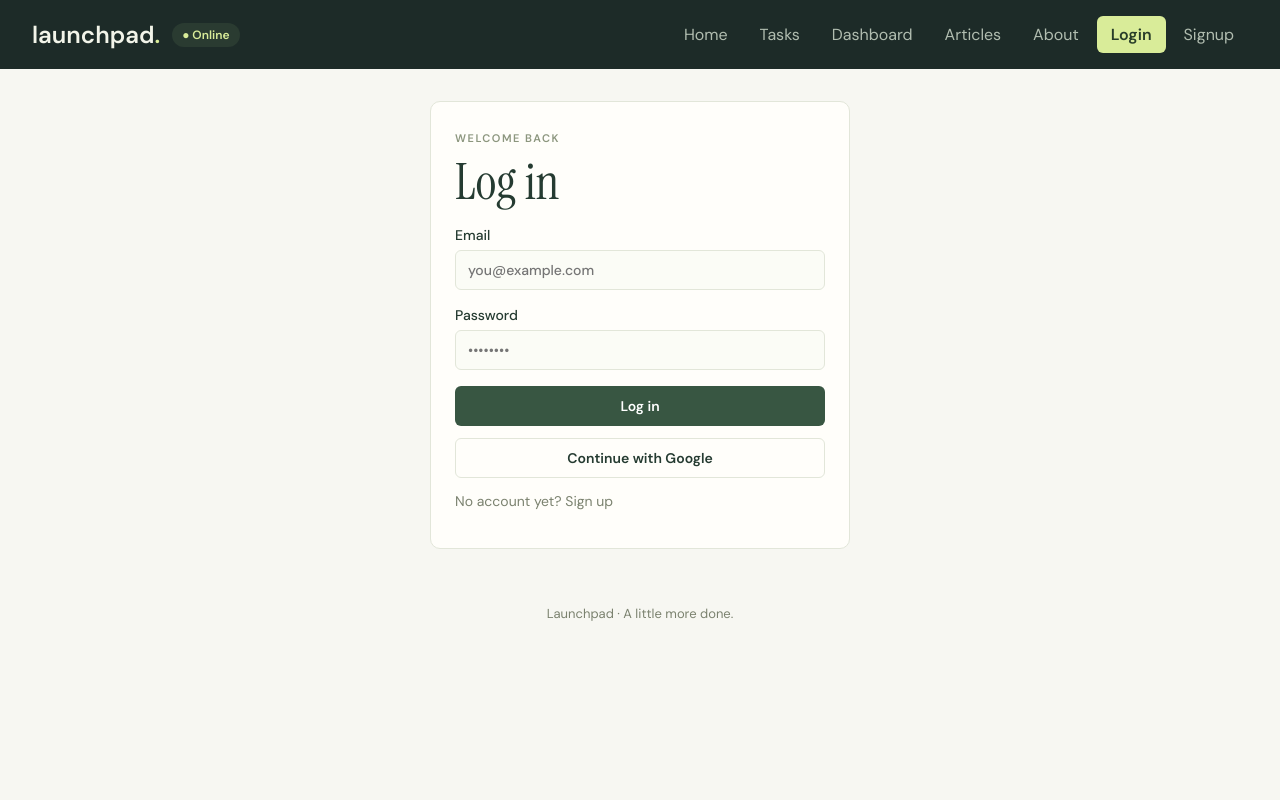
it: shows an error for a wrong password
Type "me@example.com" into the field with placeholder "you@example.com". click: (640,270)
box: [455,250,825,290]
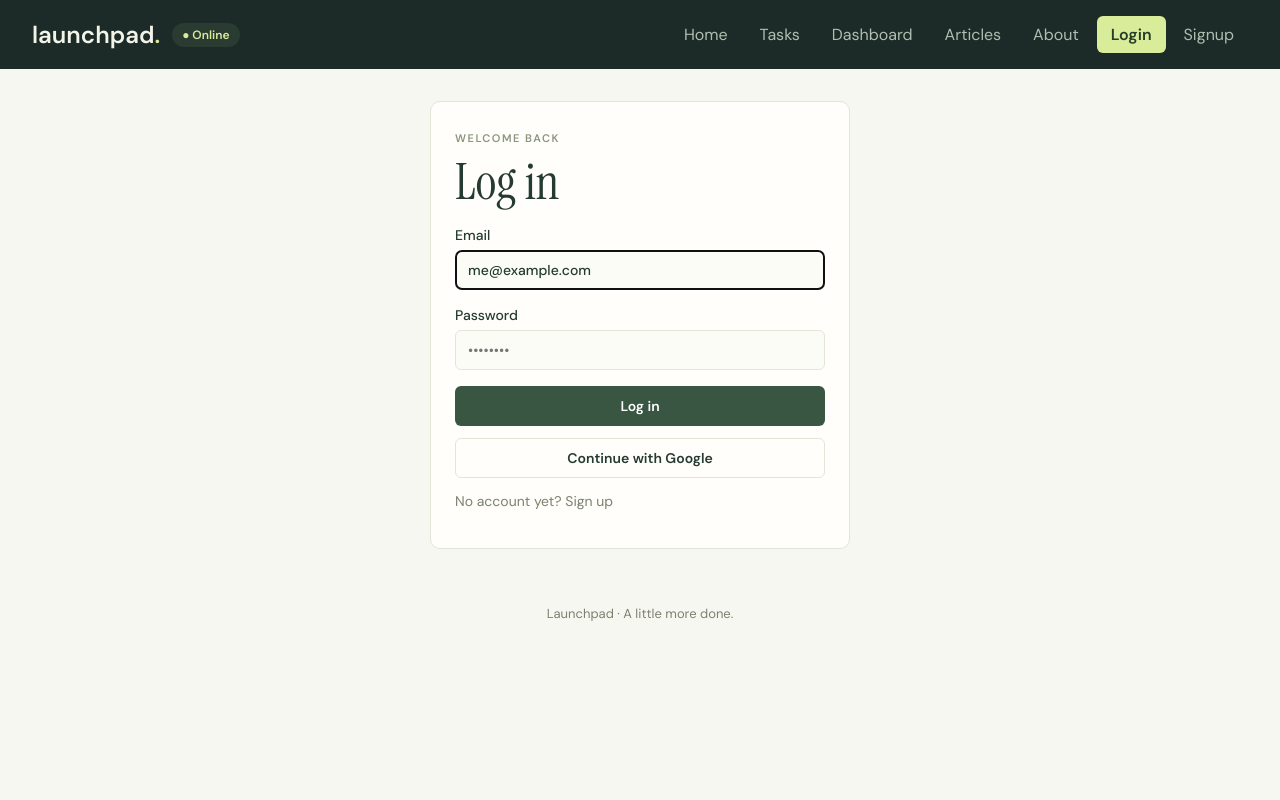
Type "wrong" into the password field with placeholder "••••••••". click: (640,350)
box: [455,330,825,370]
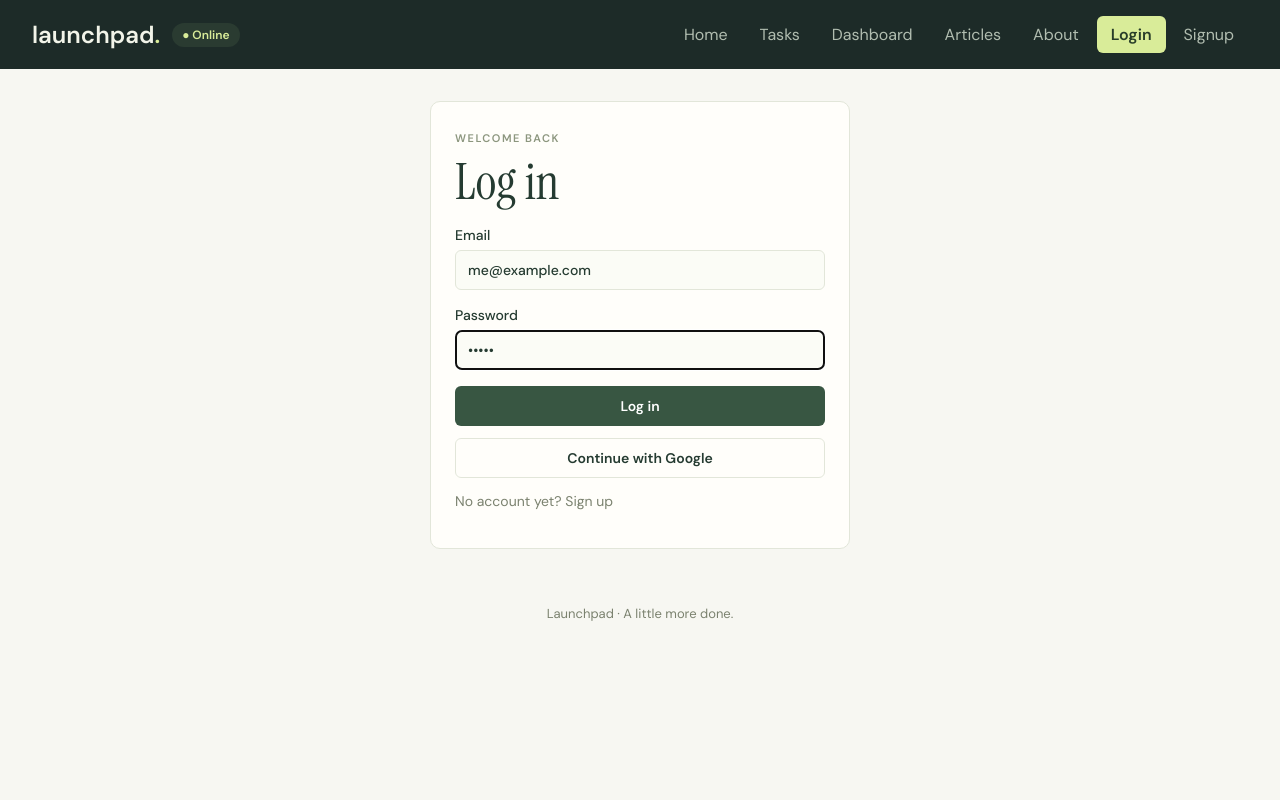
Click the button "Log in". click: (640,406)
box: [455,386,825,426]
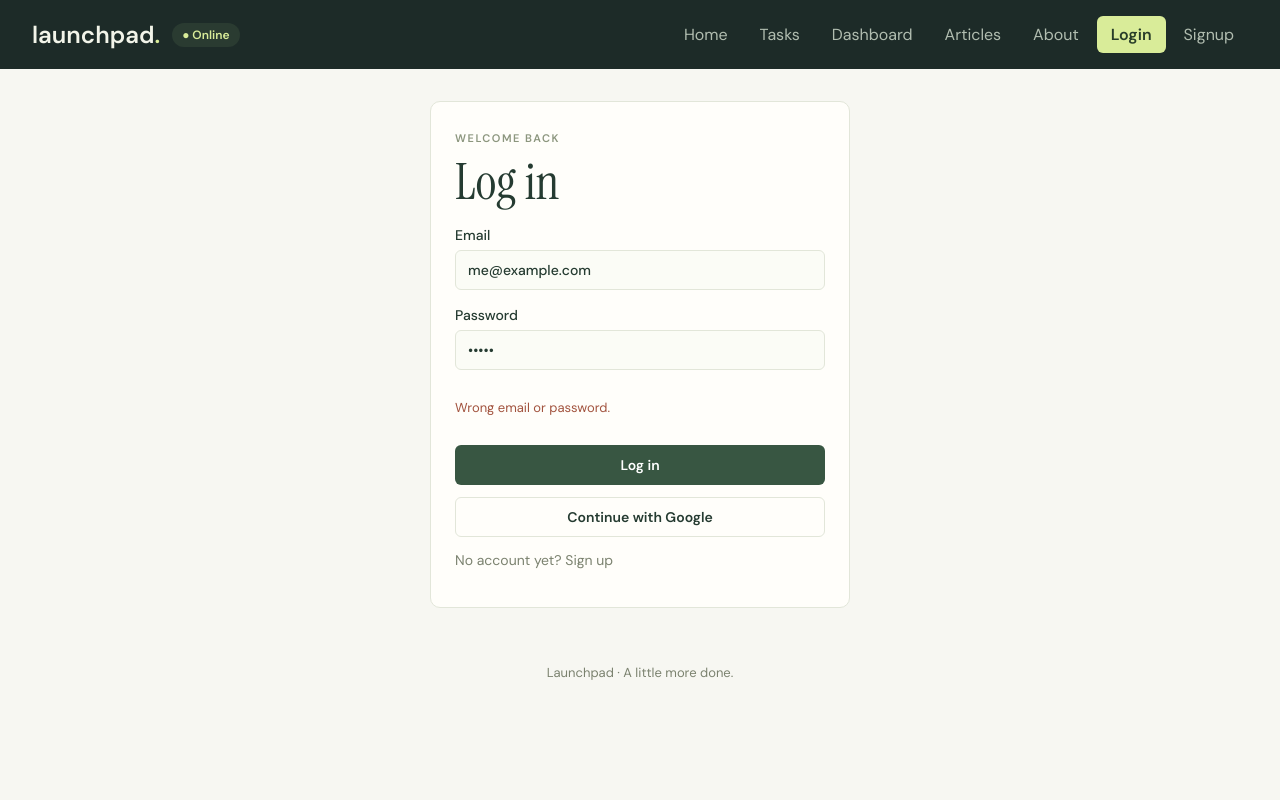
Now the text "Wrong email or password." is shown, box [455,399,610,416]
